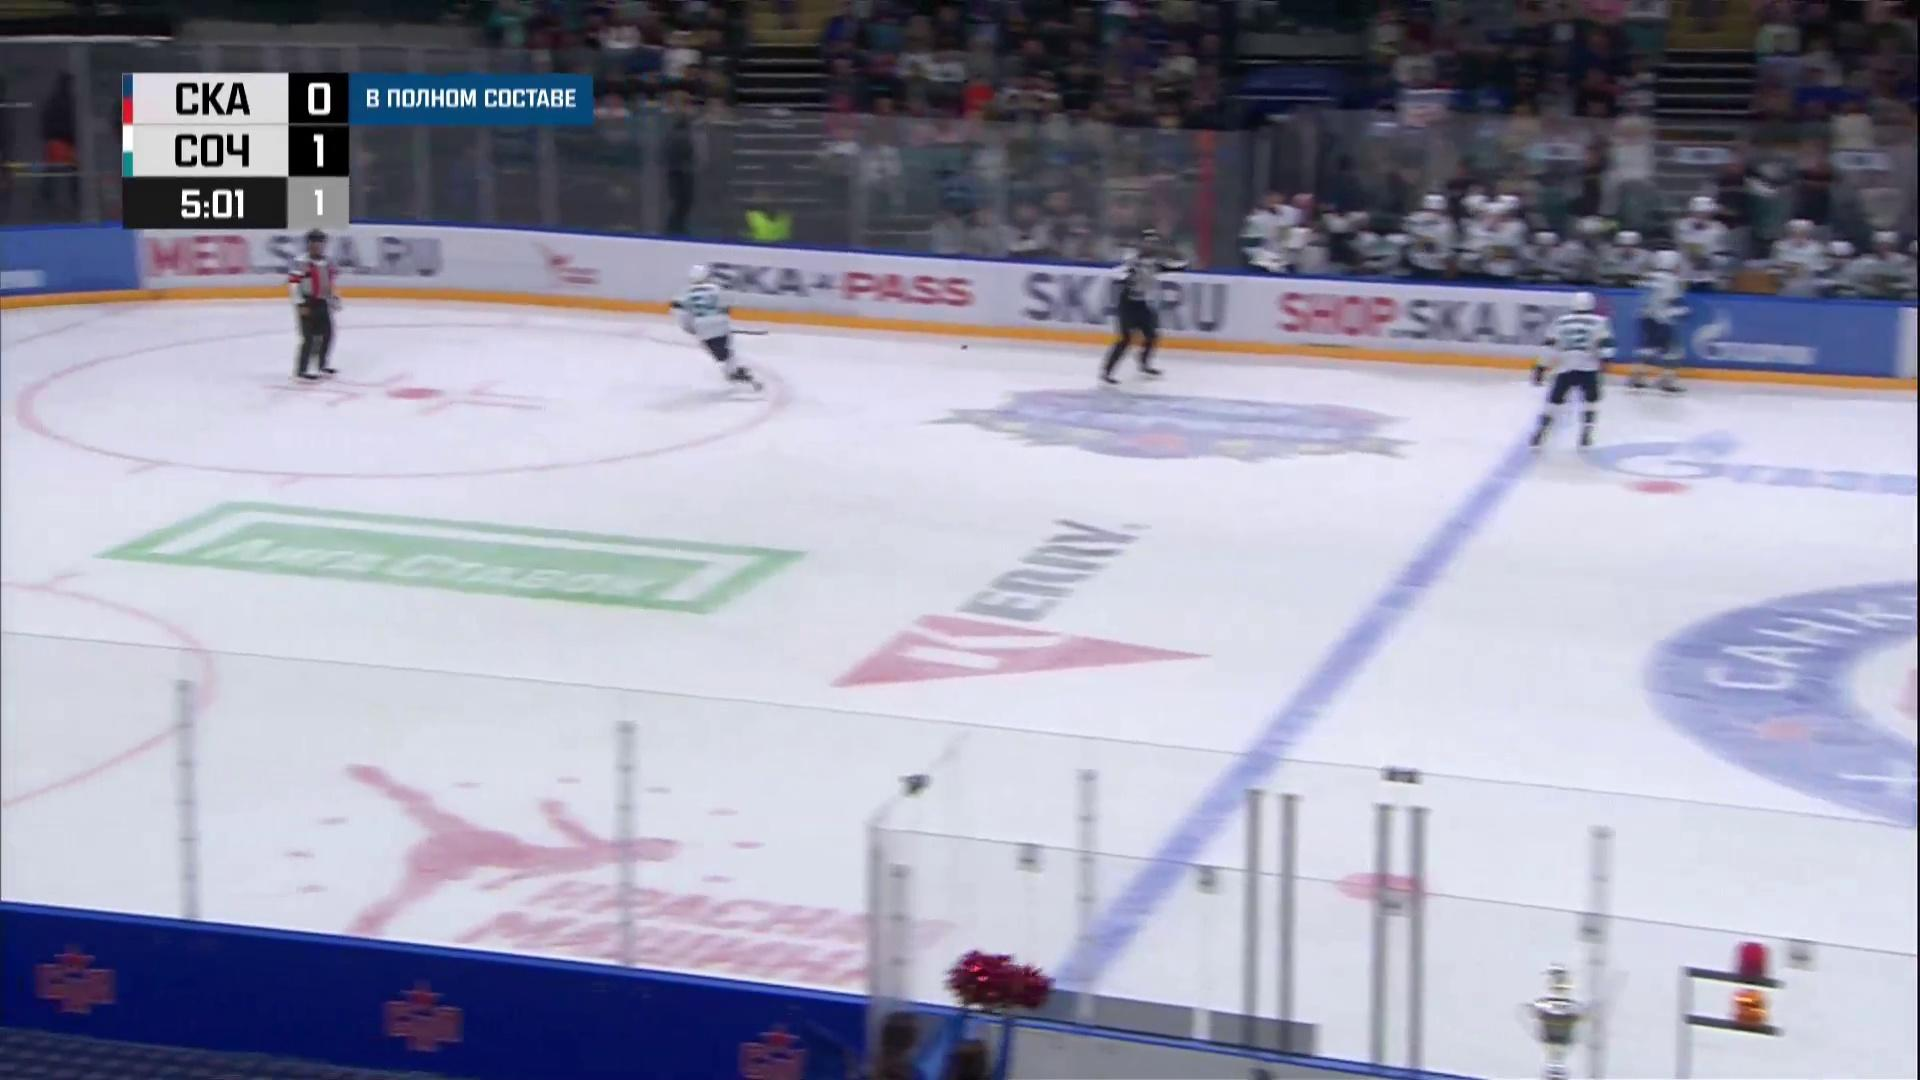ball: (960, 344, 968, 351)
